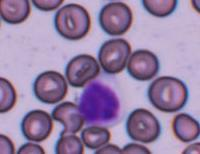L: (75, 74, 125, 127)
